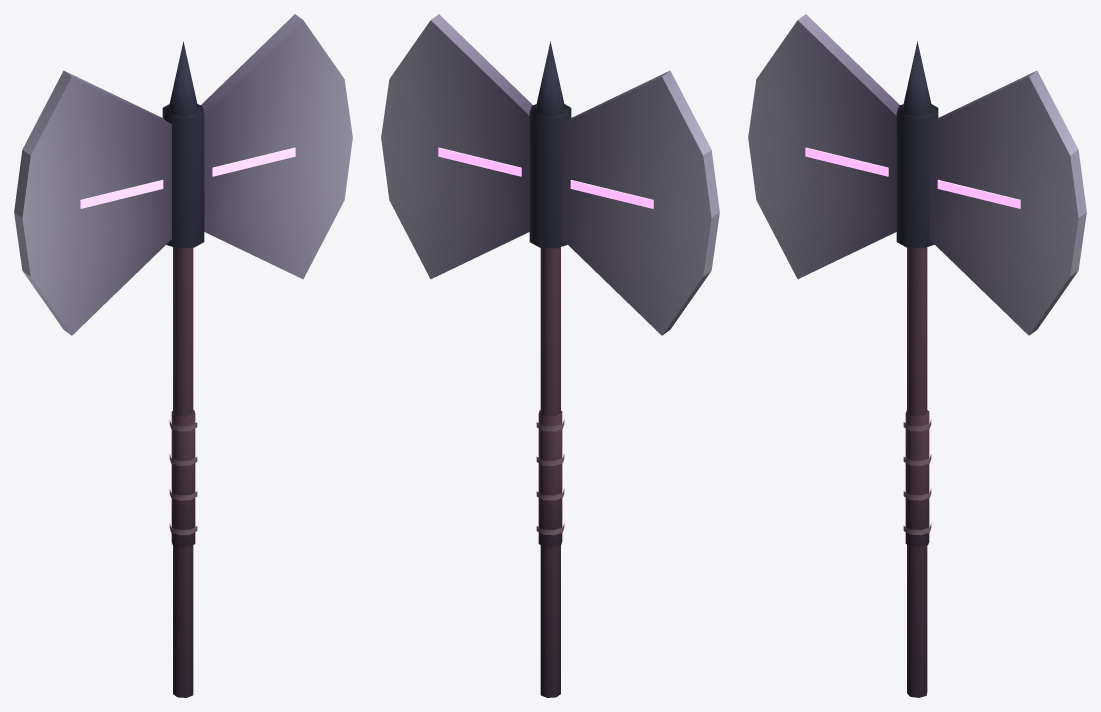
Rendered from greataxe_void.glb.
3 views of the same model, side by side, from view 1: azimuth 30°, elevation 25°; view 2: azimuth 150°, elevation 25°; view 3: azimuth 330°, elevation 25° (orthographic).
Parts seen in each view (by area): view 1: greataxe_void; view 2: greataxe_void; view 3: greataxe_void.
Part boxes in pixels (x1,y1,x2,y2): greataxe_void: [14, 14, 352, 697]; greataxe_void: [381, 14, 719, 697]; greataxe_void: [748, 14, 1086, 697].
Bounding box in the file's own units: 0.8 × 1.51 × 0.09.
